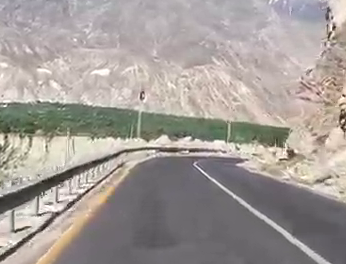stright: (142, 133, 271, 246)
